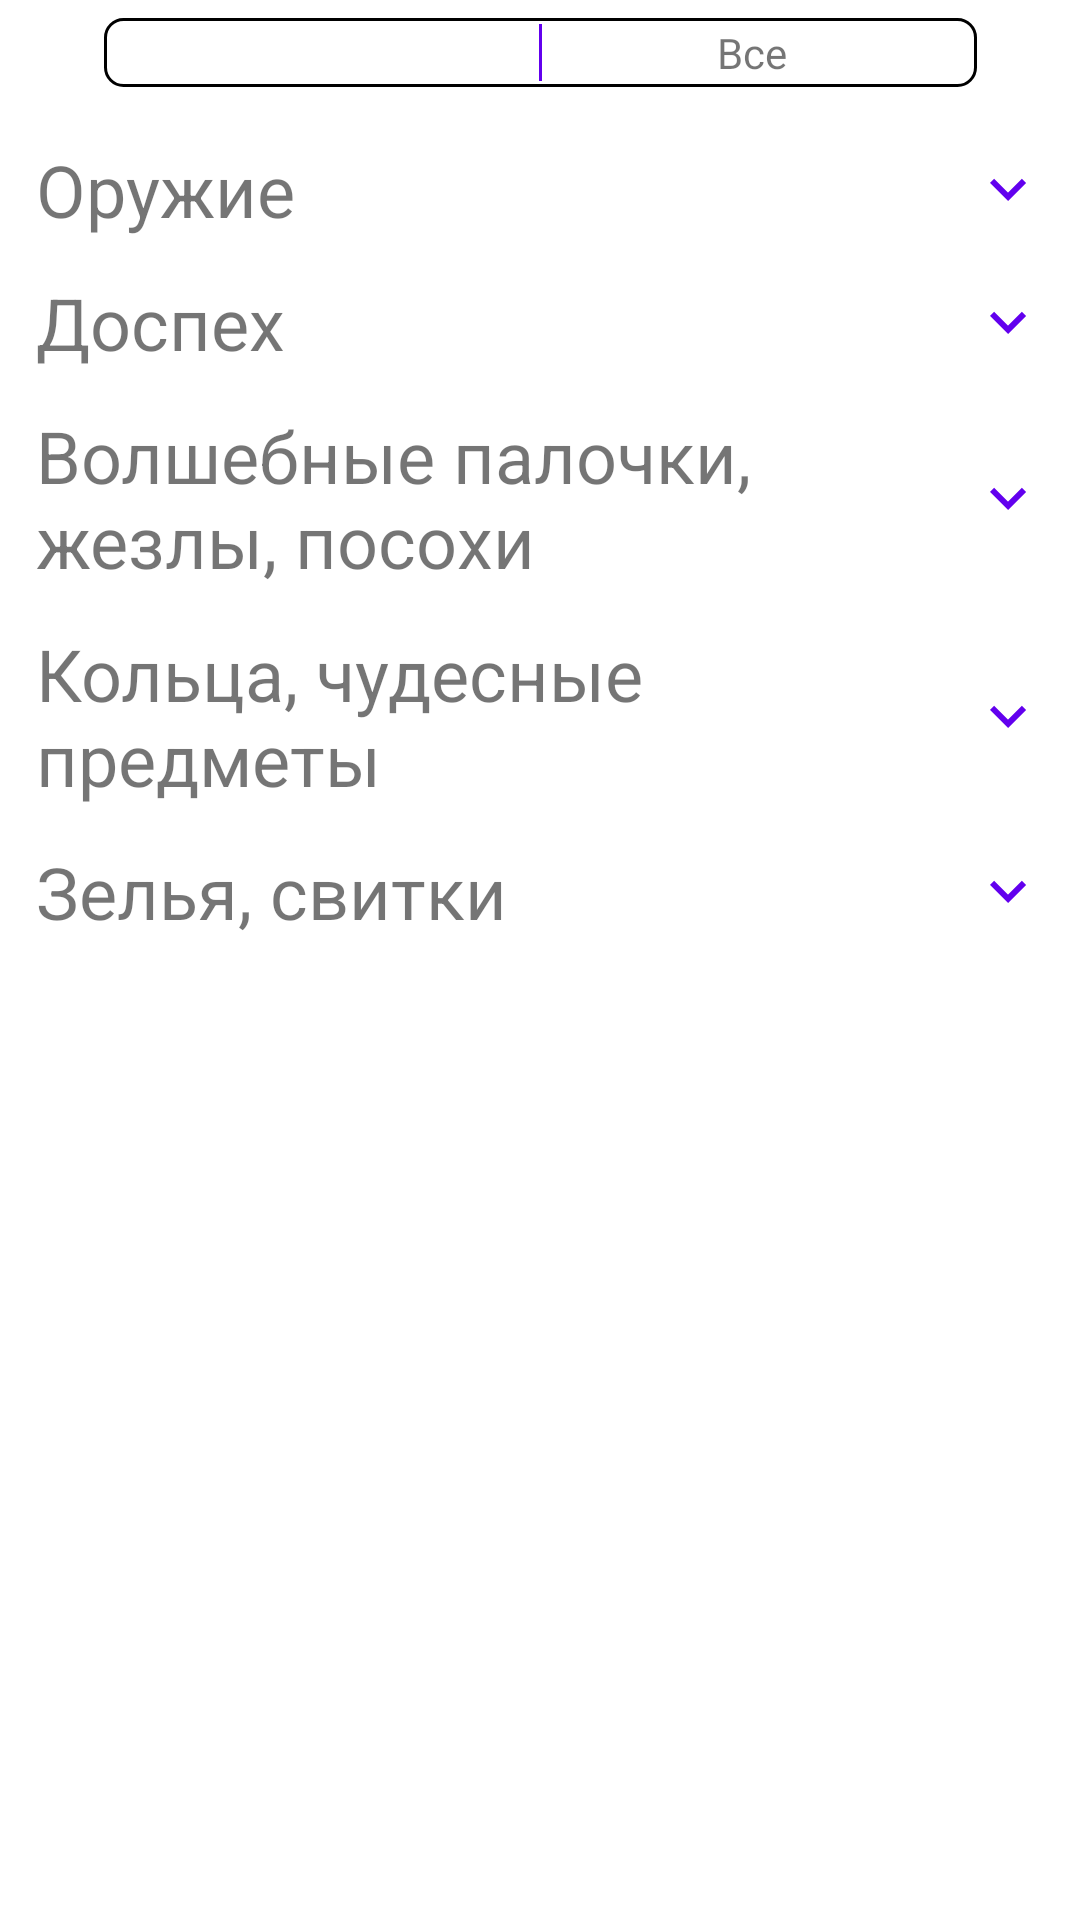

Named icons in this screenshot (1080 × 1920) and their bounding boxes, bbox=[x1, y1, x2, y2]:
keyboard arrow down: bbox=[990, 179, 1026, 201], bbox=[990, 312, 1026, 334], bbox=[990, 488, 1026, 510], bbox=[990, 706, 1026, 728], bbox=[990, 881, 1026, 903]
